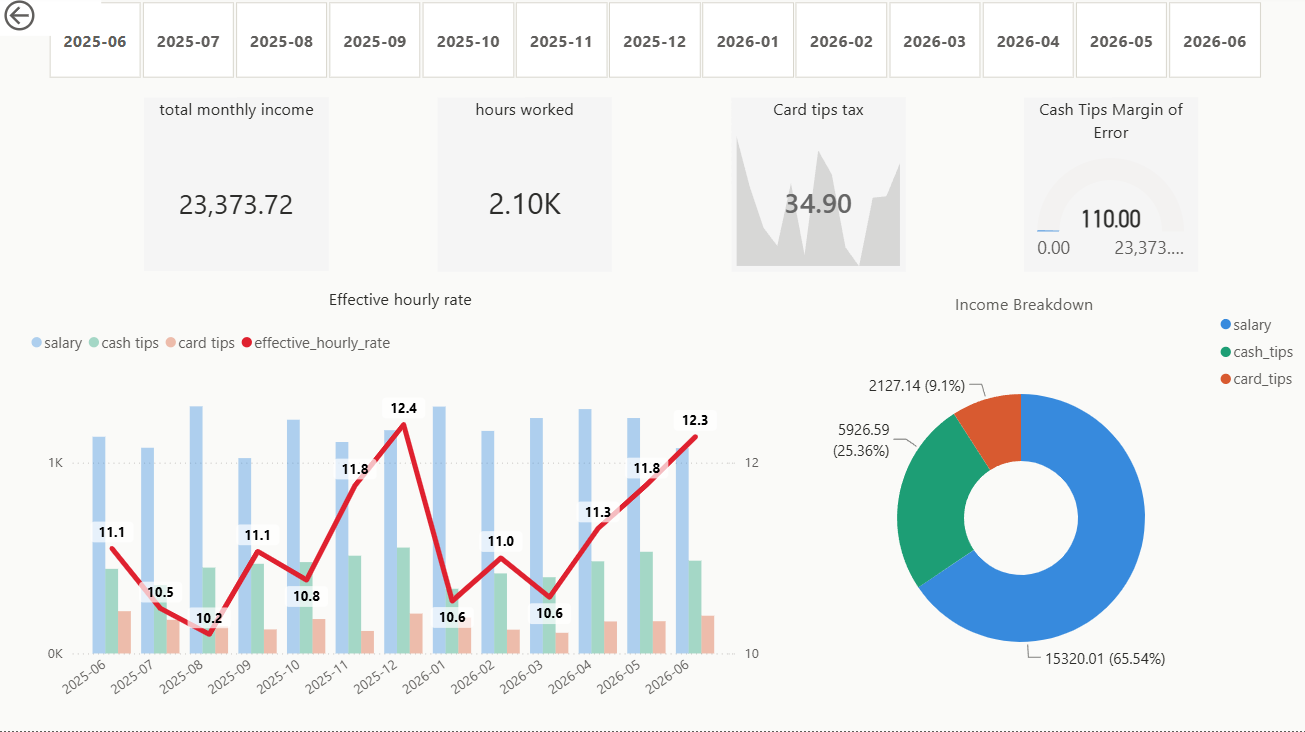

Layout of this report page (visuals, bound fields, positions):
{"tool":"powerbi","page":{"name":"Page 1","canvas":[1280,720],"ordinal":0},"visuals":[{"type":"slicer","fields":{"Values":["vw_cash_estimation_reliability.year_month"]},"box":[23.4,0,1234.9,88.1],"z":0},{"type":"donutChart","title":"Income Breakdown","fields":{"Y":["Sum(vw_monthly_income_summary.total_base_salary)","Sum(vw_monthly_income_summary.total_cash_tips)","Sum(vw_monthly_income_summary.total_card_tips_net)"]},"box":[801.2,302.9,479.1,417.1],"z":1000},{"type":"gauge","title":"Cash Tips Margin of Error","fields":{"Y":["Sum(cash_tips.margin_of_error)"],"MaxValue":["Sum(vw_monthly_income_summary.total_monthly_income)"]},"box":[1003.3,100,170,170],"z":2000},{"type":"lineClusteredColumnComboChart","title":"Effective hourly rate","fields":{"Category":["vw_monthly_income_summary.year_month"],"Y":["Sum(vw_monthly_income_summary.total_base_salary)","Sum(vw_monthly_income_summary.total_cash_tips)","Sum(vw_monthly_income_summary.total_card_tips_net)"],"Y2":["Sum(vw_monthly_income_summary.effective_hourly_rate)"]},"box":[26.2,286.3,733.8,421.3],"z":3000},{"type":"actionButton","box":[0,0,100,40],"z":4000},{"type":"cardVisual","title":"hours worked","fields":{"Data":["Sum(vw_monthly_income_summary.total_hours_worked)"]},"box":[428.8,100,170,170],"z":5000},{"type":"kpi","title":"Card tips tax ","fields":{"Indicator":["Sum(card_tips.card_tips_tax)"],"TrendLine":["vw_monthly_income_summary.year_month"]},"box":[716,100,170,170],"z":6000},{"type":"textbox","box":[891.4,286.1,223,34.4],"z":7000},{"type":"cardVisual","title":"total monthly income","fields":{"Data":["Sum(vw_monthly_income_summary.total_monthly_income)"]},"box":[141.8,100.3,181,170],"z":8000}]}

Visuals, with their boxes in screenshot pixels (x1, y1, x2, y2), scaled from the page's 1280x720 canvas onto the 1305x732 screenshot:
slicer - vw_cash_estimation_reliability.year_month: box(24, 0, 1283, 90)
"Income Breakdown" donutChart: box(817, 308, 1304, 731)
"Cash Tips Margin of Error" gauge: box(1023, 102, 1196, 274)
"Effective hourly rate" lineClusteredColumnComboChart: box(27, 291, 775, 719)
actionButton: box(0, 0, 102, 41)
"hours worked" cardVisual: box(437, 102, 610, 274)
"Card tips tax " kpi: box(730, 102, 903, 274)
textbox: box(909, 291, 1136, 326)
"total monthly income" cardVisual: box(145, 102, 329, 275)
